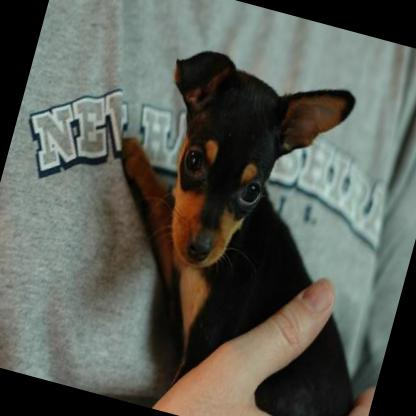miniature_pinscher: (56, 22, 416, 416)
